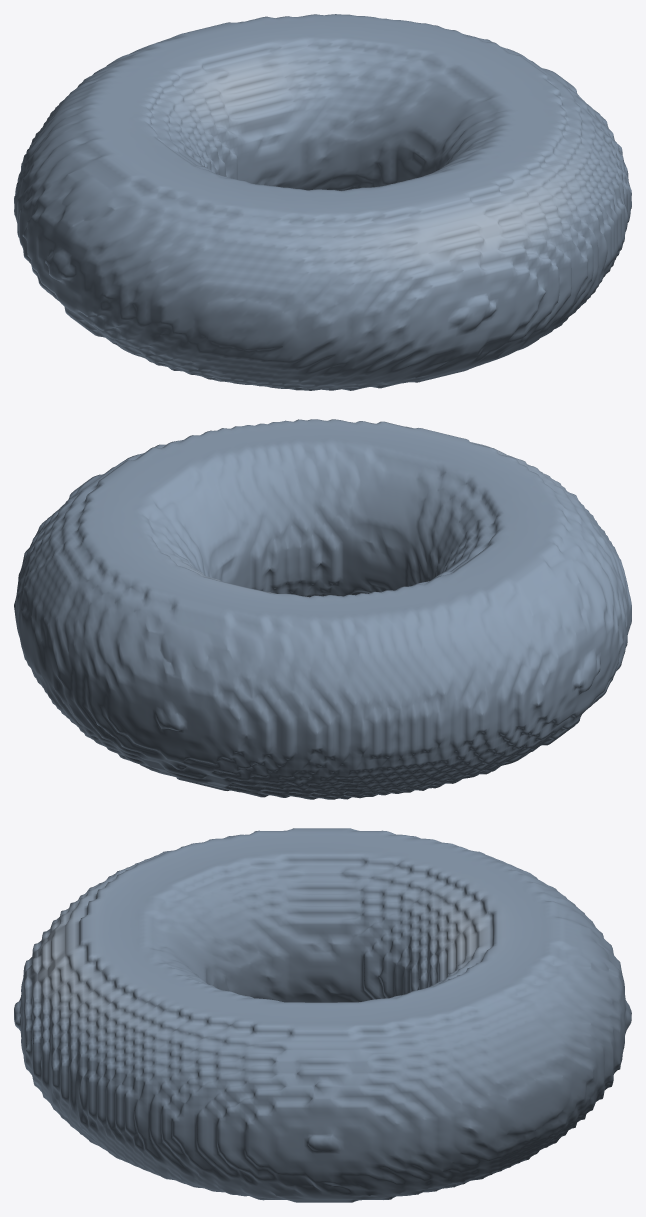
File: default-desktop.glb
The picture shows the model from 3 angles, top to bottom: view 1: azimuth 30°, elevation 25°; view 2: azimuth 150°, elevation 25°; view 3: azimuth 270°, elevation 25°; orthographic projection.
Parts seen in each view (by area): view 1: Torus; view 2: Torus; view 3: Torus.
Boxes of the visible parts, left/top/right/bottom form: Torus: left=14, top=14, right=631, bottom=390; Torus: left=14, top=419, right=631, bottom=799; Torus: left=14, top=828, right=631, bottom=1202.
Bounding box in the file's own units: 0.1 × 0.0314 × 0.1.
